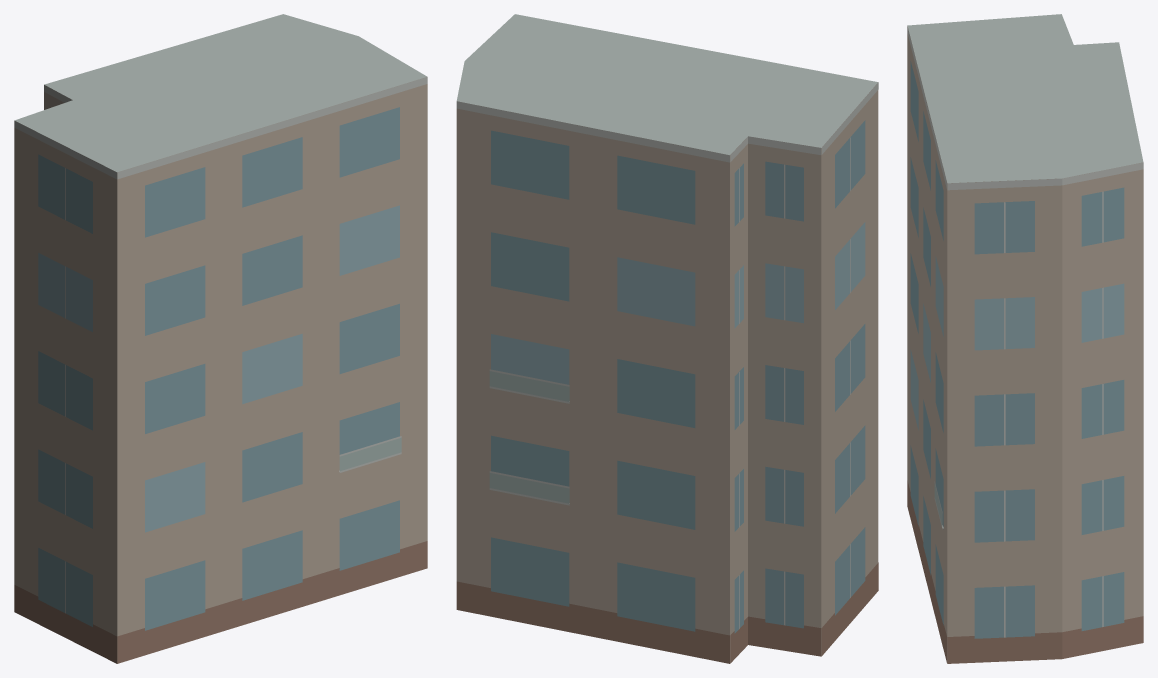
Rendered from survey-upis-32980941.glb.
3 views of the same model, side by side, from view 1: azimuth 30°, elevation 25°; view 2: azimuth 150°, elevation 25°; view 3: azimuth 270°, elevation 25° (orthographic). The views are drawn at different scales.
Visible parts, largest first — view 1: survey-upis-32980941.tmp; view 2: survey-upis-32980941.tmp; view 3: survey-upis-32980941.tmp.
Boxes of the visible parts, left/top/right/bottom form: survey-upis-32980941.tmp: left=14, top=14, right=427, bottom=663; survey-upis-32980941.tmp: left=456, top=14, right=878, bottom=663; survey-upis-32980941.tmp: left=907, top=14, right=1143, bottom=663.
Bounding box in the file's own units: 12.7 × 16.8 × 7.49.
